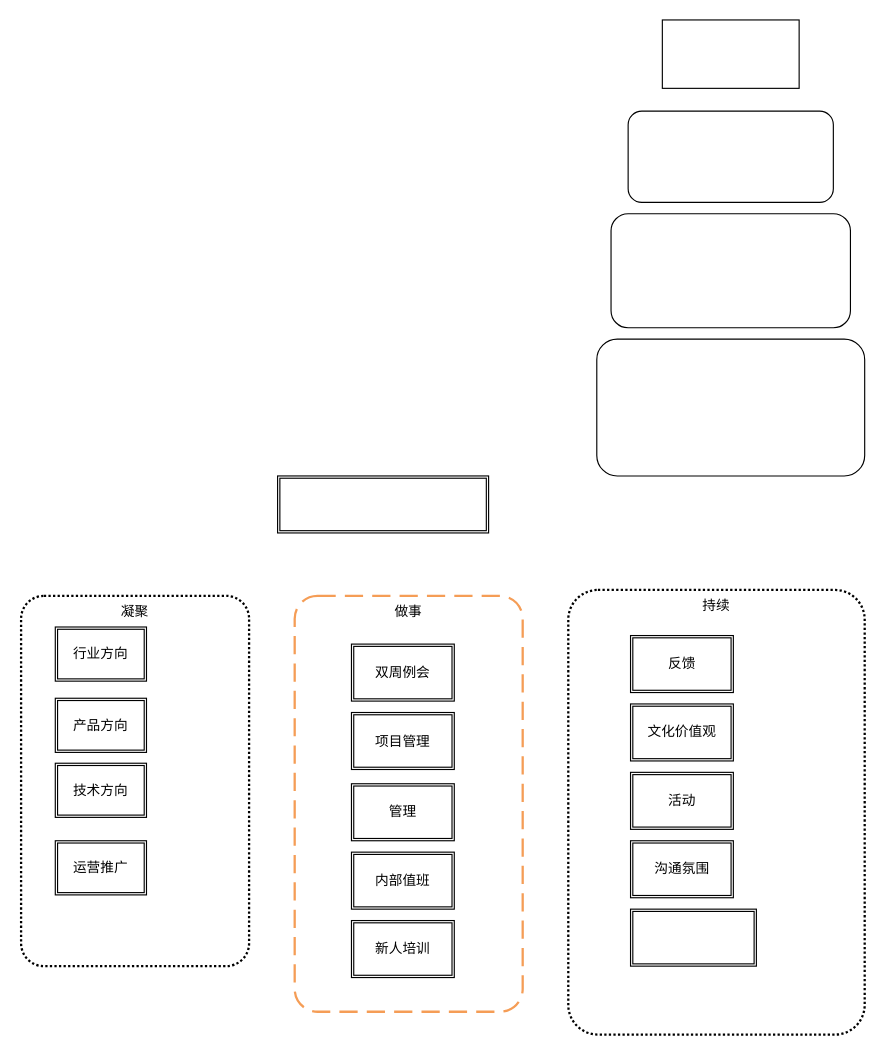
This 885x1056 diagram has some shape labels left out. Here are the shapes that lost their labels. From the top down, the centre of each, then its label:
At point (730, 53): "专家类型".
At point (730, 156): "高级".
At point (730, 270): "初级".
At point (730, 407): "预备".
At point (382, 504): "靠机制让角色扭转起来".
At point (692, 937): "实验田（成长）".
